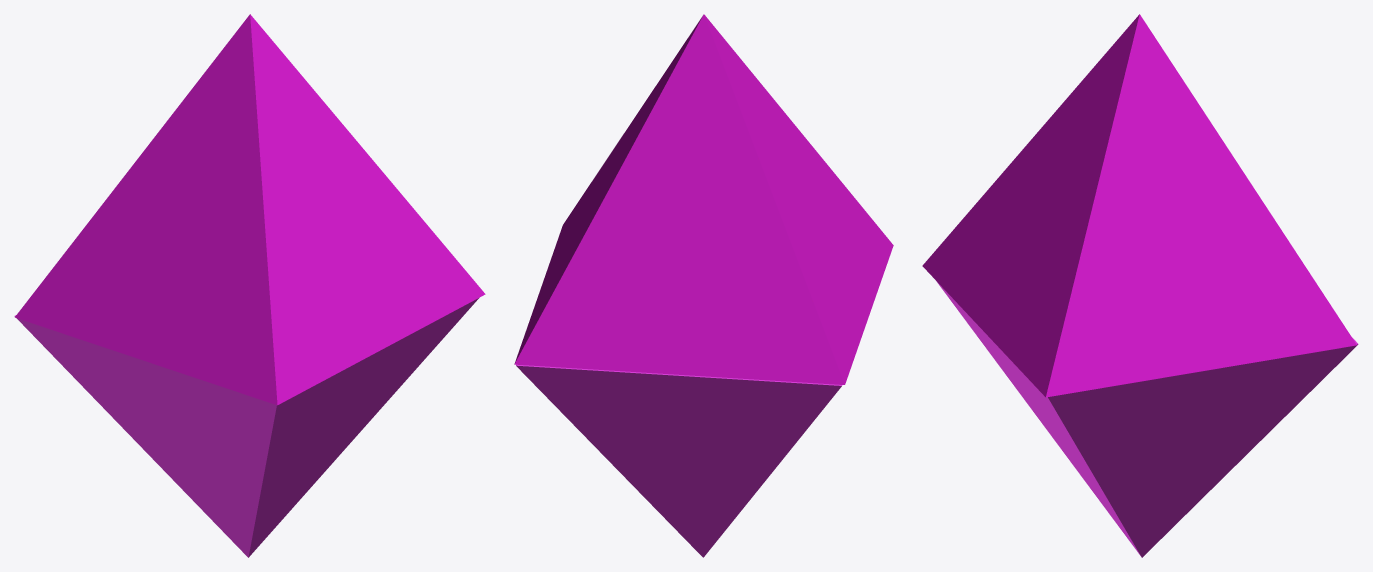
Rendered from Diamond.fbx.
3 views of the same model, side by side, from view 1: azimuth 30°, elevation 25°; view 2: azimuth 150°, elevation 25°; view 3: azimuth 270°, elevation 25° (orthographic).
Parts seen in each view (by area): view 1: node_id6 (×2); view 2: node_id6 (×2); view 3: node_id6 (×2).
Boxes of the visible parts, x1,y1,x2,y2 form: node_id6 (×2): (14, 14, 485, 557); node_id6 (×2): (514, 14, 893, 557); node_id6 (×2): (922, 14, 1358, 557).
Bounding box in the file's own units: 0.3708 × 0.512 × 0.3721.
Materials: 2 (2 with a texture image).
